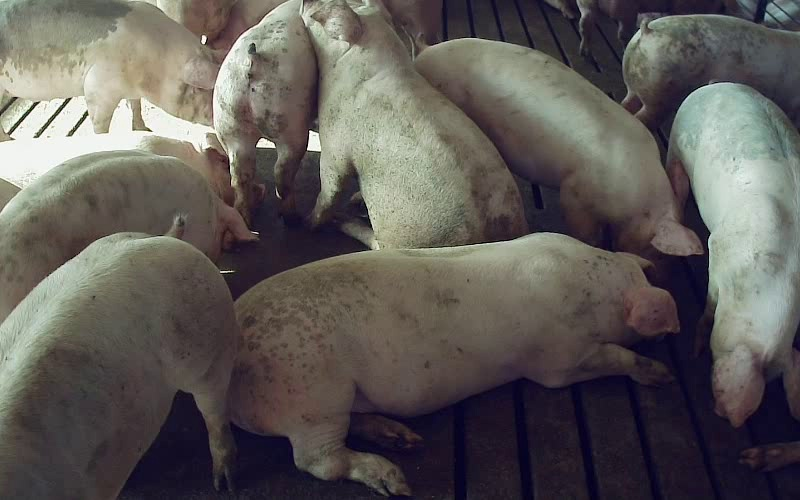pig: (231, 233, 676, 494), (0, 216, 236, 497), (416, 38, 702, 255), (301, 0, 525, 248), (667, 83, 799, 425), (0, 150, 255, 322), (622, 15, 799, 129), (0, 132, 232, 204)
